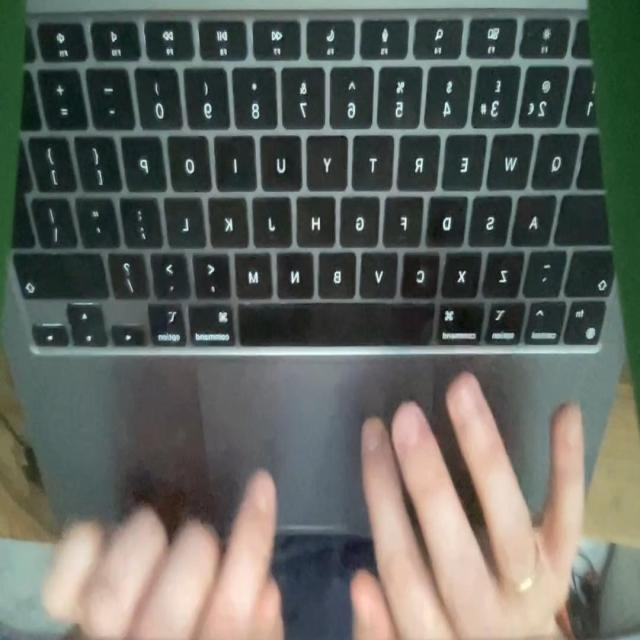keyboard-with-hands: (1, 0, 626, 538)
